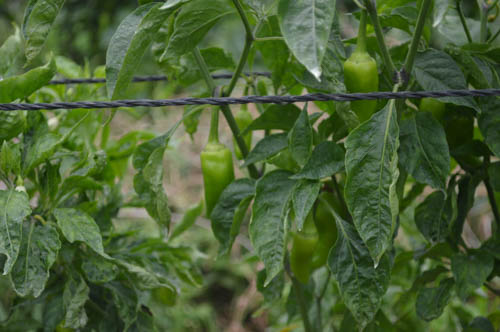ChiliPepper: (202, 150, 236, 223), (343, 61, 380, 119), (289, 230, 319, 284)
